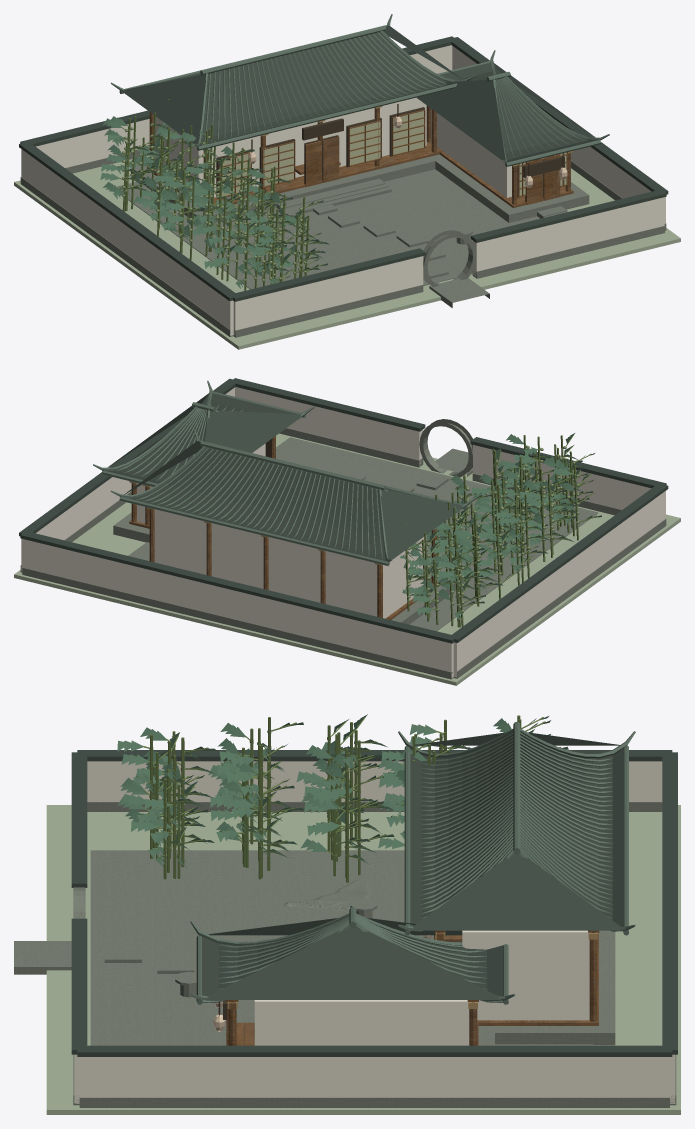
Rendered from xiaoxiangguan.glb.
3 renders of one model, top to bottom at view 1: azimuth 30°, elevation 25°; view 2: azimuth 150°, elevation 25°; view 3: azimuth 270°, elevation 25°, orthographic. The views are drawn at different scales.
Visible parts, largest first — view 1: xiaoxiangguan_roof, xiaoxiangguan_stone, xiaoxiangguan_plaster, xiaoxiangguan_tile, xiaoxiangguan_earth, xiaoxiangguan_leaf, xiaoxiangguan_bamboo, xiaoxiangguan_wood, xiaoxiangguan_paper, xiaoxiangguan_lightleaf, xiaoxiangguan_darkwood; view 2: xiaoxiangguan_plaster, xiaoxiangguan_roof, xiaoxiangguan_stone, xiaoxiangguan_tile, xiaoxiangguan_leaf, xiaoxiangguan_earth, xiaoxiangguan_bamboo, xiaoxiangguan_wood, xiaoxiangguan_lightleaf; view 3: xiaoxiangguan_roof, xiaoxiangguan_stone, xiaoxiangguan_plaster, xiaoxiangguan_earth, xiaoxiangguan_tile, xiaoxiangguan_leaf, xiaoxiangguan_bamboo, xiaoxiangguan_wood, PolyHaven_coast_rocks_02.002, xiaoxiangguan_lightleaf.
Part boxes in pixels (x1,y1,x2,y2): xiaoxiangguan_roof: (19,25,668,301); xiaoxiangguan_stone: (20,148,666,337); xiaoxiangguan_plaster: (21,45,665,335); xiaoxiangguan_tile: (111,14,609,166); xiaoxiangguan_earth: (14,155,680,349); xiaoxiangguan_leaf: (100,116,329,288); xiaoxiangguan_bamboo: (106,99,323,290); xiaoxiangguan_wood: (147,105,573,211); xiaoxiangguan_paper: (220,111,566,196); xiaoxiangguan_lightleaf: (122,123,306,281); xiaoxiangguan_darkwood: (216,104,564,201); xiaoxiangguan_plaster: (21,387,665,677); xiaoxiangguan_roof: (19,378,668,643); xiaoxiangguan_stone: (20,419,666,679); xiaoxiangguan_tile: (93,380,475,566); xiaoxiangguan_leaf: (400,433,601,619); xiaoxiangguan_earth: (14,433,680,685); xiaoxiangguan_bamboo: (403,434,597,627); xiaoxiangguan_wood: (129,436,439,619); xiaoxiangguan_lightleaf: (407,445,579,612); xiaoxiangguan_roof: (71,732,677,1056); xiaoxiangguan_stone: (14,802,676,1107); xiaoxiangguan_plaster: (74,761,675,1103); xiaoxiangguan_earth: (46,805,680,1114); xiaoxiangguan_tile: (190,721,635,1004); xiaoxiangguan_leaf: (117,714,568,868); xiaoxiangguan_bamboo: (124,715,561,882); xiaoxiangguan_wood: (226,930,599,1045); PolyHaven_coast_rocks_02.002: (283,880,369,911); xiaoxiangguan_lightleaf: (149,730,446,858).
Size of the model in its own units: 33 by 9.31 by 30.5.
Materials: 13 (2 with a texture image).
